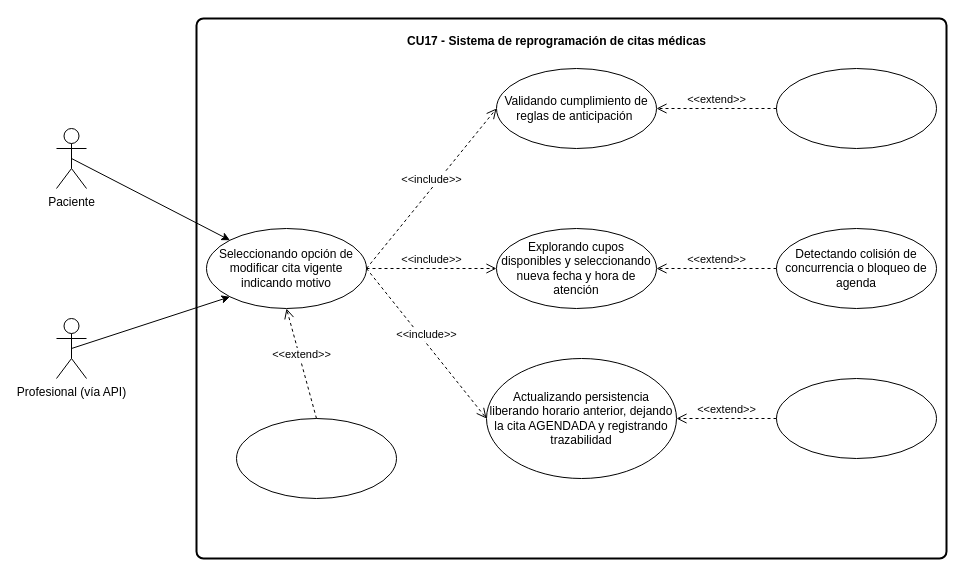
Some shapes in this 965 by 576 pixel diagram are drawn without their labels. The shapes that lost their labels are listed below. From the top down, each one's box as (x1, y1, x2, y2) in pixels, then its label:
(776, 68, 936, 148): Denegando habilitación del calendario
(776, 378, 936, 458): Registrando error de notificación
(236, 418, 396, 498): Deshabilitando controles de edición por cita terminal o en curso
